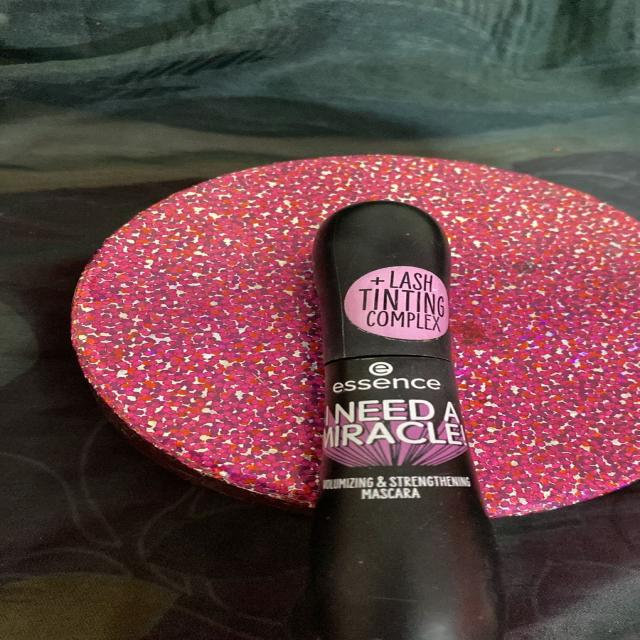mascara: (235, 162, 555, 640)
